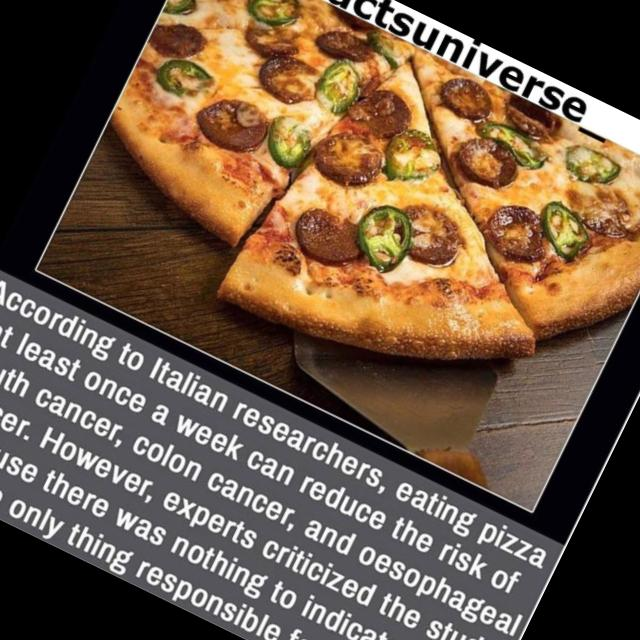pepperoni: (306, 117, 394, 201), (474, 194, 562, 278), (189, 82, 275, 164), (388, 191, 473, 273), (560, 172, 640, 252), (287, 200, 369, 274), (252, 40, 330, 113), (342, 76, 417, 146), (451, 126, 526, 195), (492, 90, 570, 152), (430, 70, 502, 133), (143, 11, 210, 74), (313, 18, 385, 75)
pizza: (108, 0, 640, 361)
